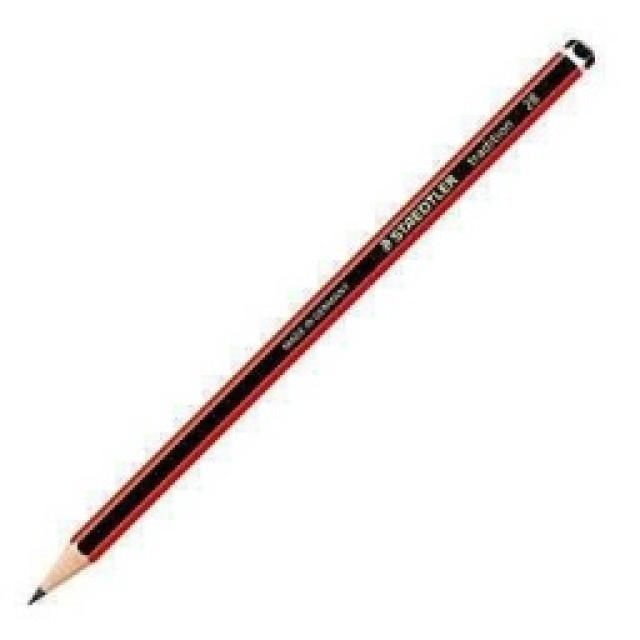pencil: (22, 30, 598, 608)
